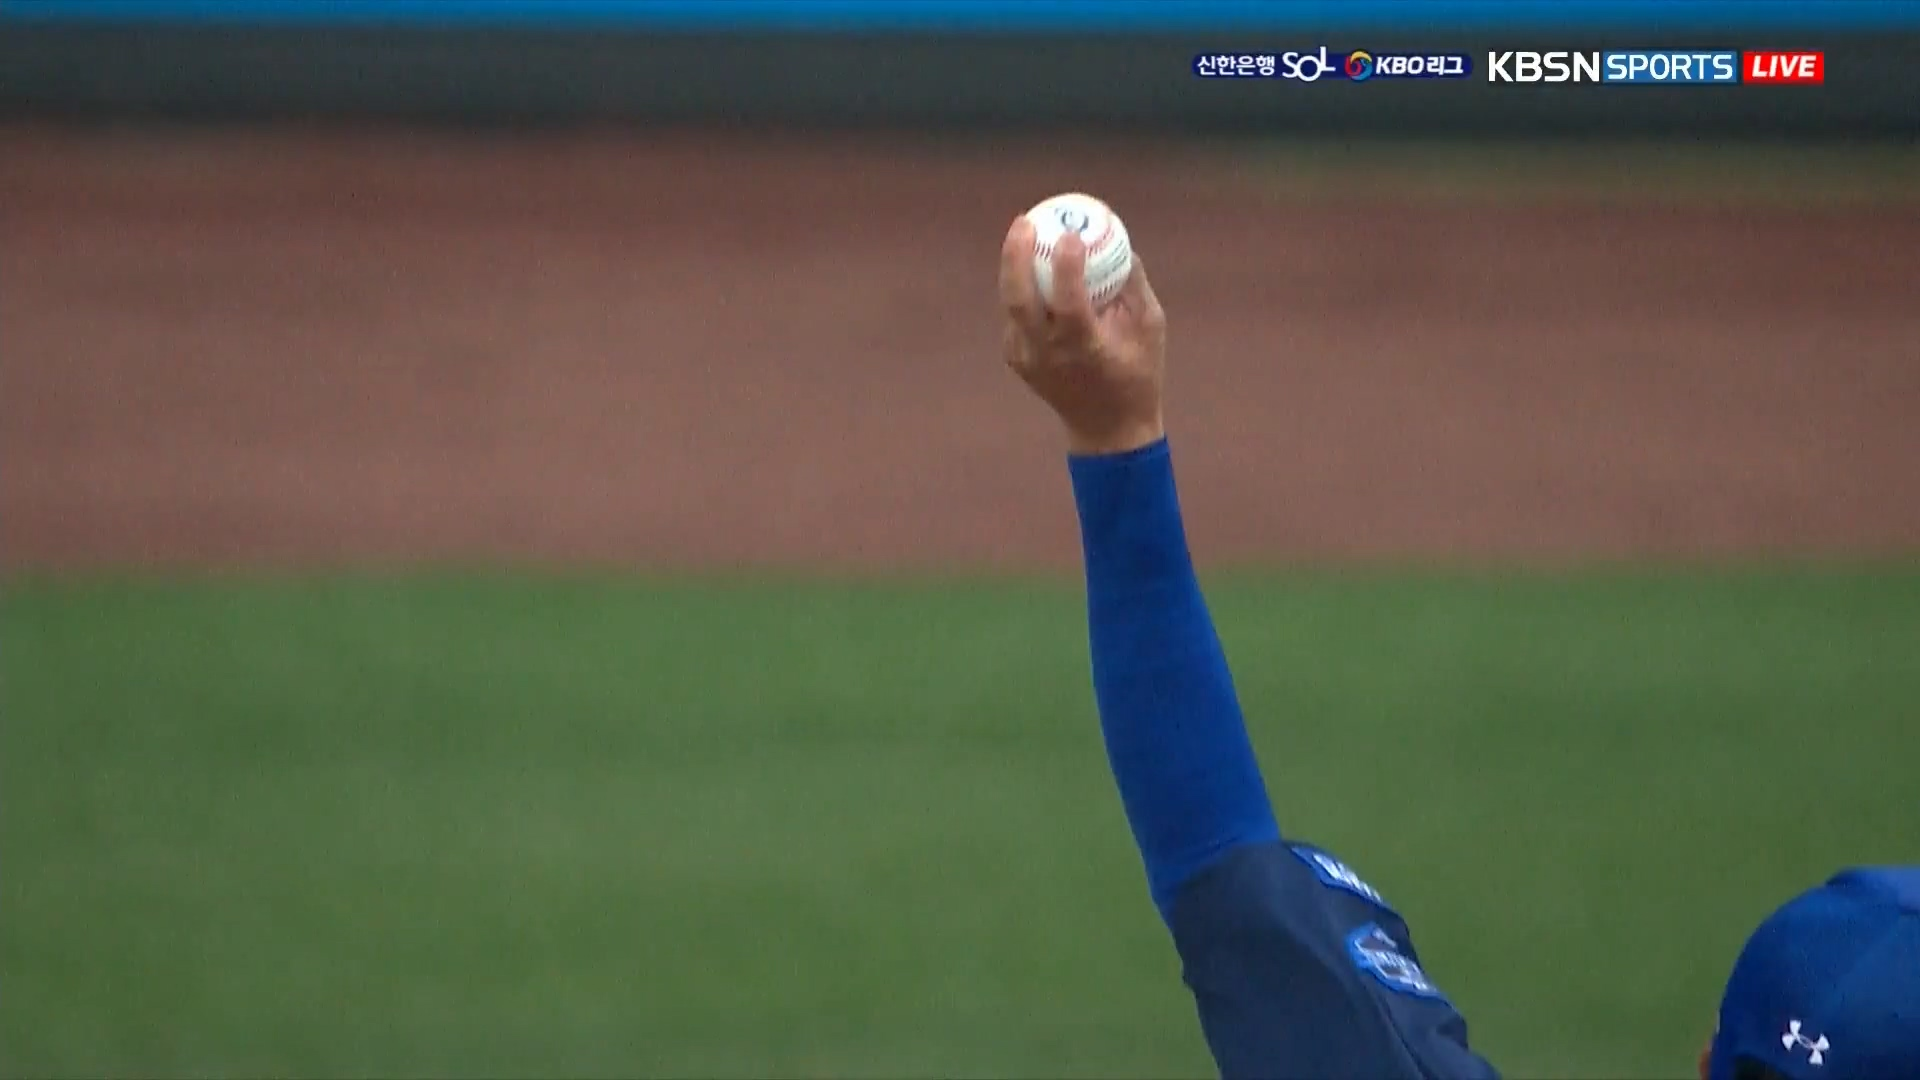zoomin_hand: (976, 183, 1276, 975)
